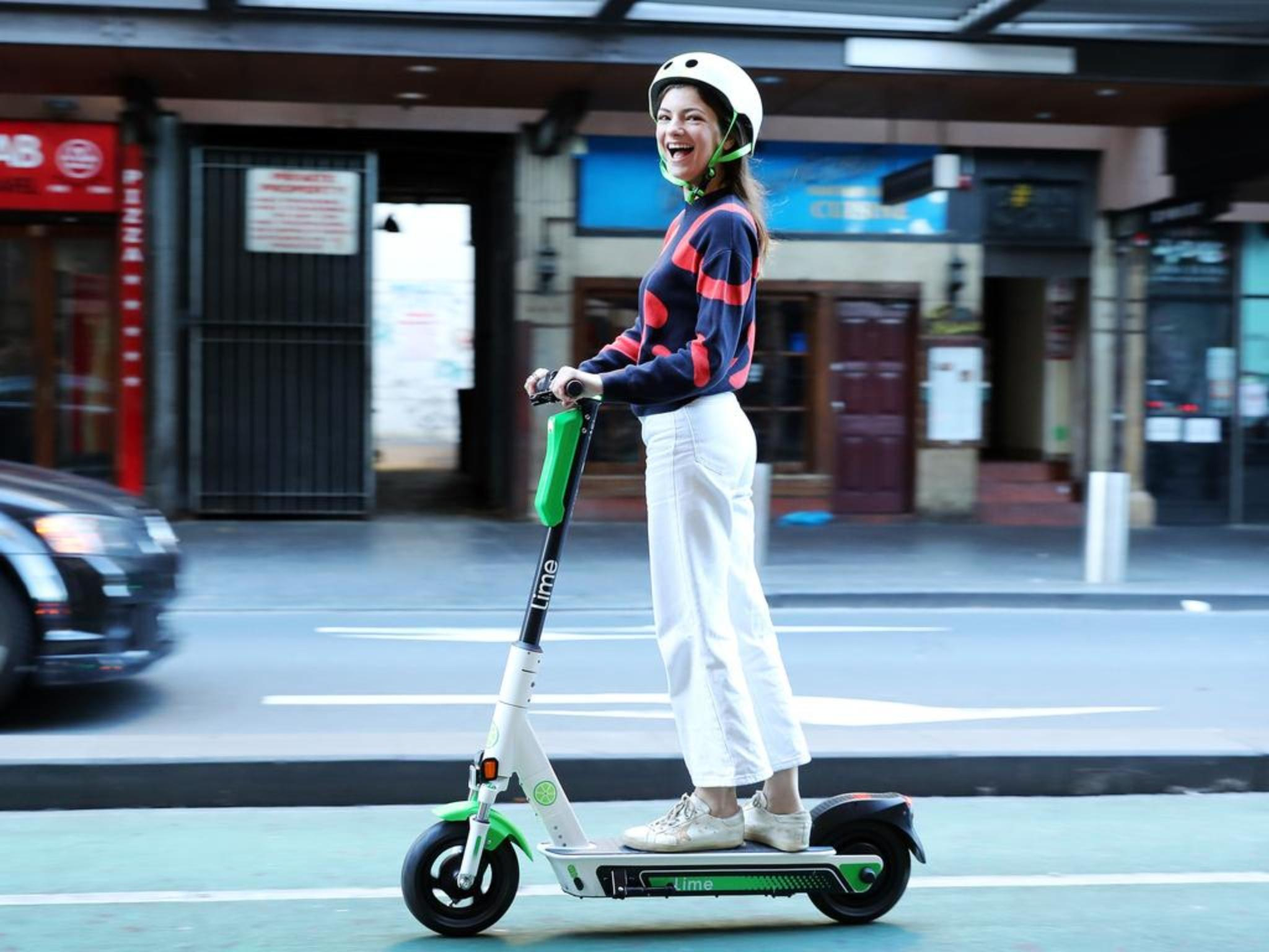helmet: (642, 48, 753, 200)
human: (558, 43, 822, 866)
kickboard: (401, 807, 915, 925)
